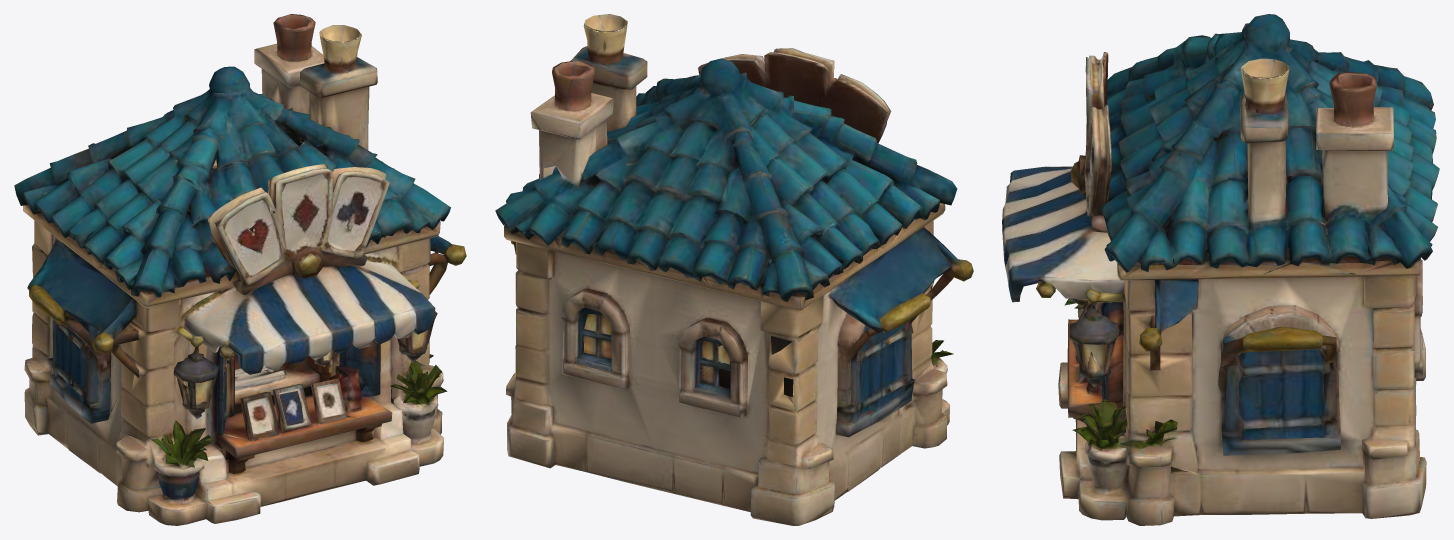
Rendered from candidate.glb.
3 views of the same model, side by side, from view 1: azimuth 30°, elevation 25°; view 2: azimuth 150°, elevation 25°; view 3: azimuth 270°, elevation 25° (orthographic). The views are drawn at different scales.
Parts seen in each view (by area): view 1: harbor__card_pavilion__native_mobile; view 2: harbor__card_pavilion__native_mobile; view 3: harbor__card_pavilion__native_mobile.
Part boxes in pixels (<box>): harbor__card_pavilion__native_mobile: <box>14,14,466,525</box>; harbor__card_pavilion__native_mobile: <box>495,14,973,525</box>; harbor__card_pavilion__native_mobile: <box>1002,14,1439,525</box>.
Bounding box in the file's own units: 1 × 0.9589 × 0.869.
1 material, 1 textured.
